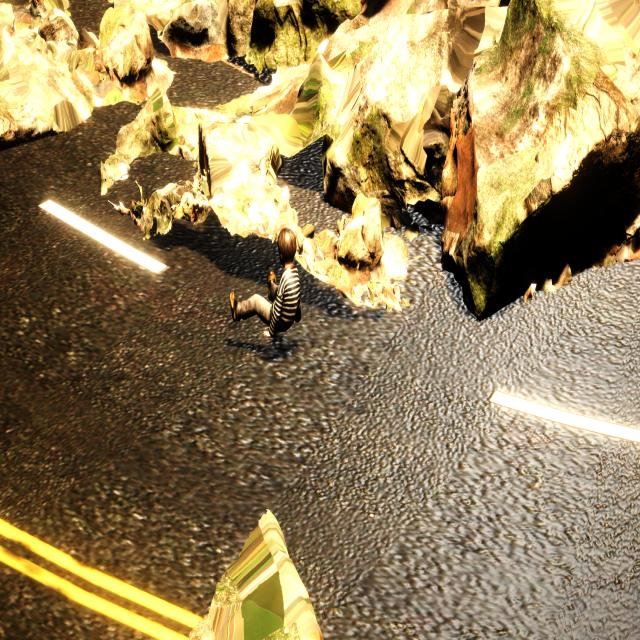Human: (227, 217, 304, 349)
